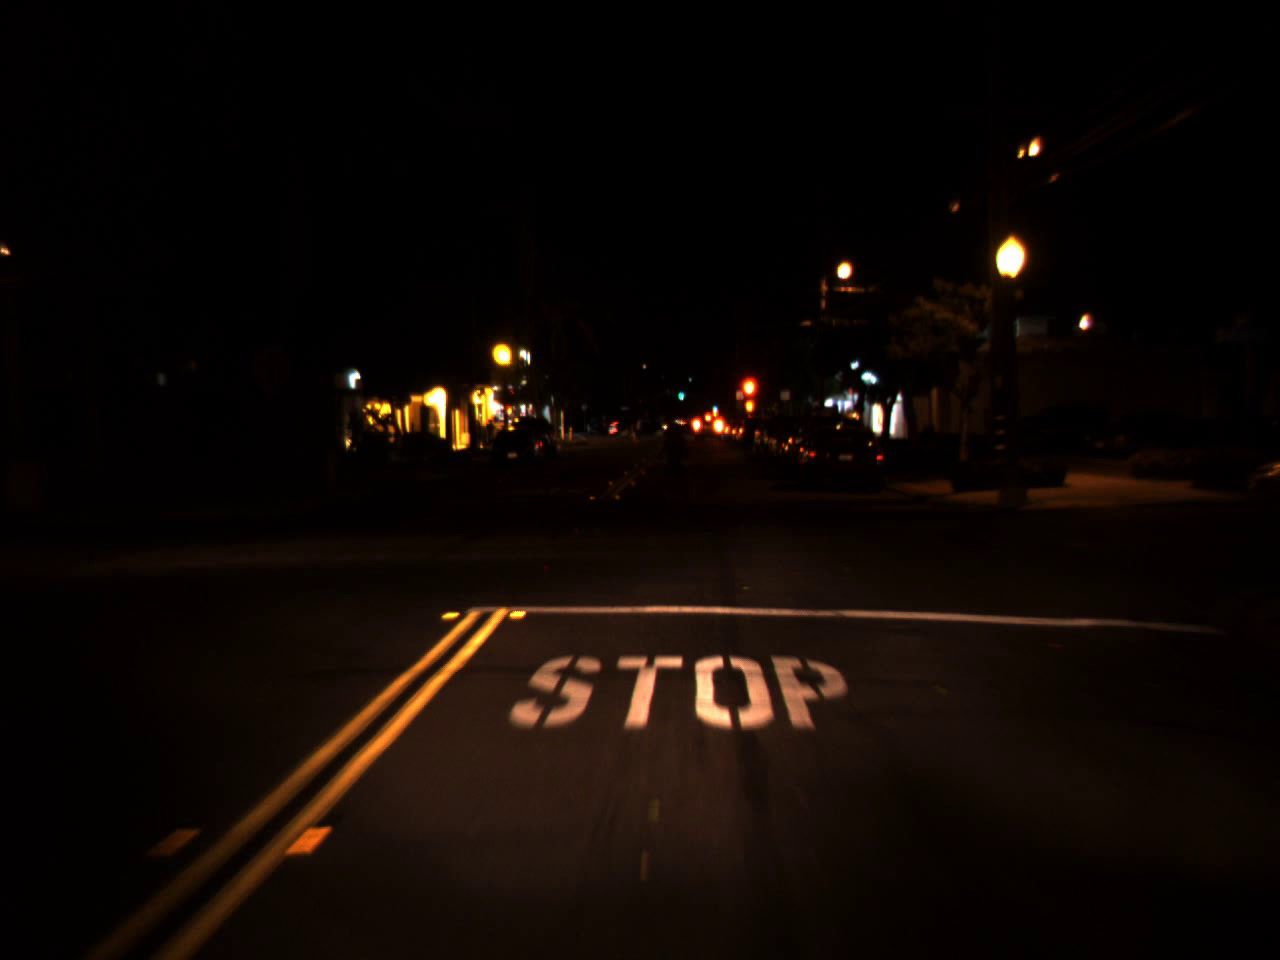go: (675, 382, 684, 403), (710, 397, 719, 412)
stop: (735, 373, 760, 421)
